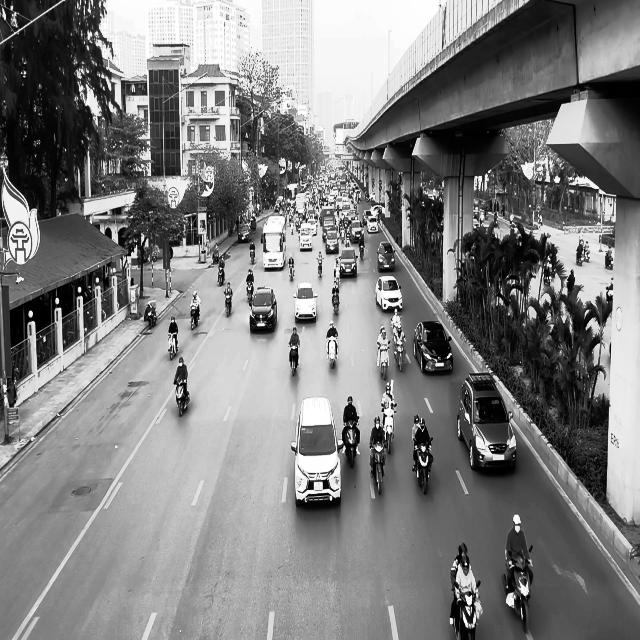bus: (261, 215, 286, 270)
car: (290, 396, 345, 506), (456, 372, 516, 471), (413, 320, 453, 373), (249, 285, 277, 333), (292, 281, 318, 322), (375, 275, 403, 311), (376, 240, 395, 272), (339, 248, 357, 278), (325, 230, 339, 254), (237, 223, 251, 242)
motorbike: (502, 545, 534, 633), (453, 580, 481, 640), (413, 438, 433, 494), (369, 441, 386, 494), (342, 418, 359, 468), (381, 406, 396, 454), (174, 378, 190, 416), (377, 342, 390, 379), (326, 334, 338, 368), (288, 342, 299, 376), (394, 338, 405, 372), (145, 301, 157, 327), (168, 331, 178, 360), (190, 306, 200, 330), (224, 290, 232, 317), (332, 288, 339, 315), (217, 264, 225, 286), (246, 281, 253, 305), (288, 262, 295, 280), (358, 240, 364, 260), (317, 257, 323, 277), (249, 248, 255, 264)
